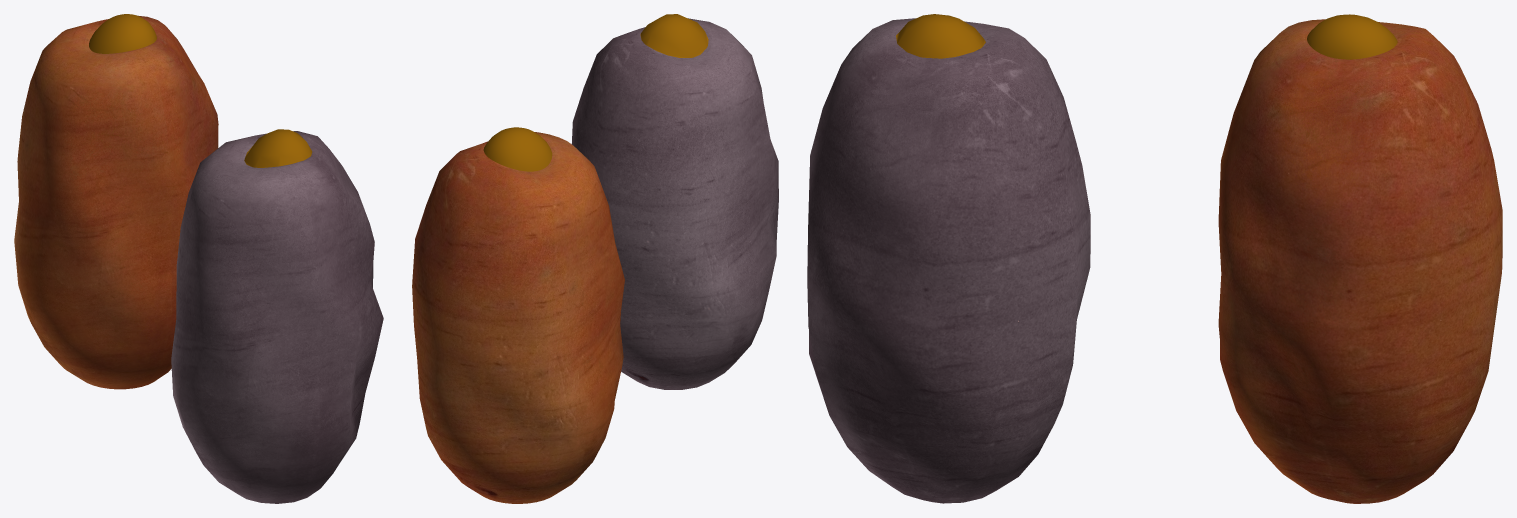
The model's file is Dtaes.FBX.
3 renders of one model, left to right at view 1: azimuth 30°, elevation 25°; view 2: azimuth 150°, elevation 25°; view 3: azimuth 270°, elevation 25°, orthographic. The views are drawn at different scales.
Visible parts, largest first — view 1: Sphere001, Sphere002; view 2: Sphere002, Sphere001; view 3: Sphere002, Sphere001.
Boxes of the visible parts, x1,y1,x2,y2 form: Sphere001: [171, 129, 383, 503]; Sphere002: [14, 14, 218, 389]; Sphere002: [412, 127, 624, 503]; Sphere001: [571, 14, 778, 389]; Sphere002: [1218, 14, 1502, 503]; Sphere001: [807, 14, 1090, 503].
Size of the model in its own units: 49.1 by 93.06 by 122.
